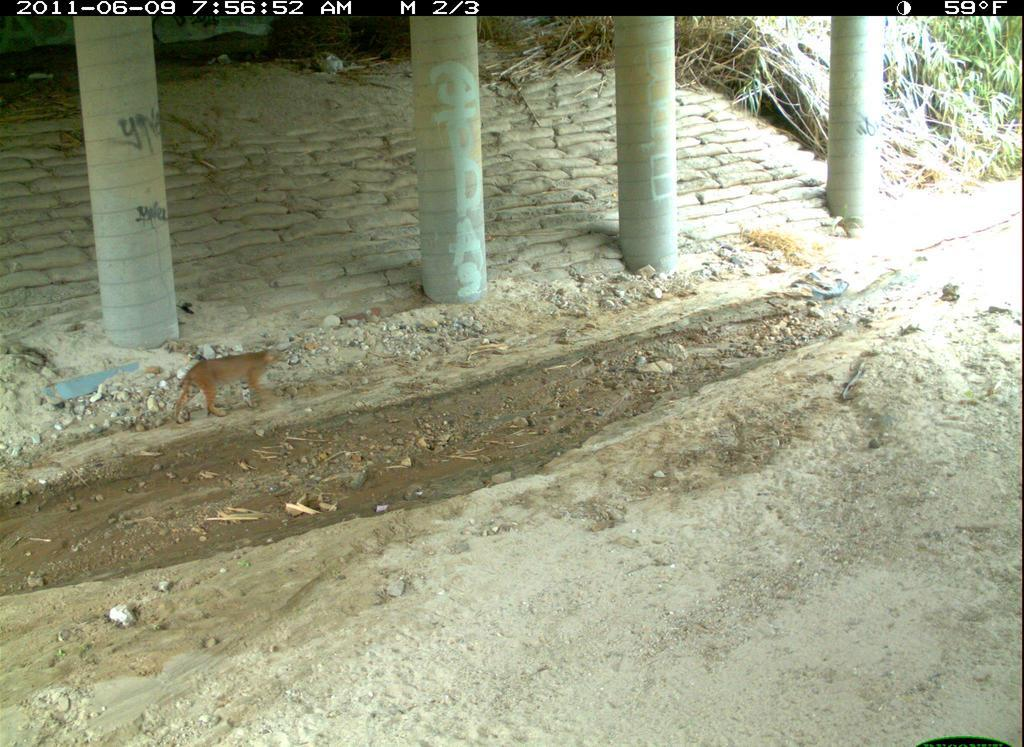bobcat: (336, 679, 566, 747)
